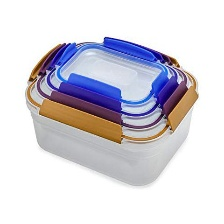plastic_box: (18, 29, 204, 192)
